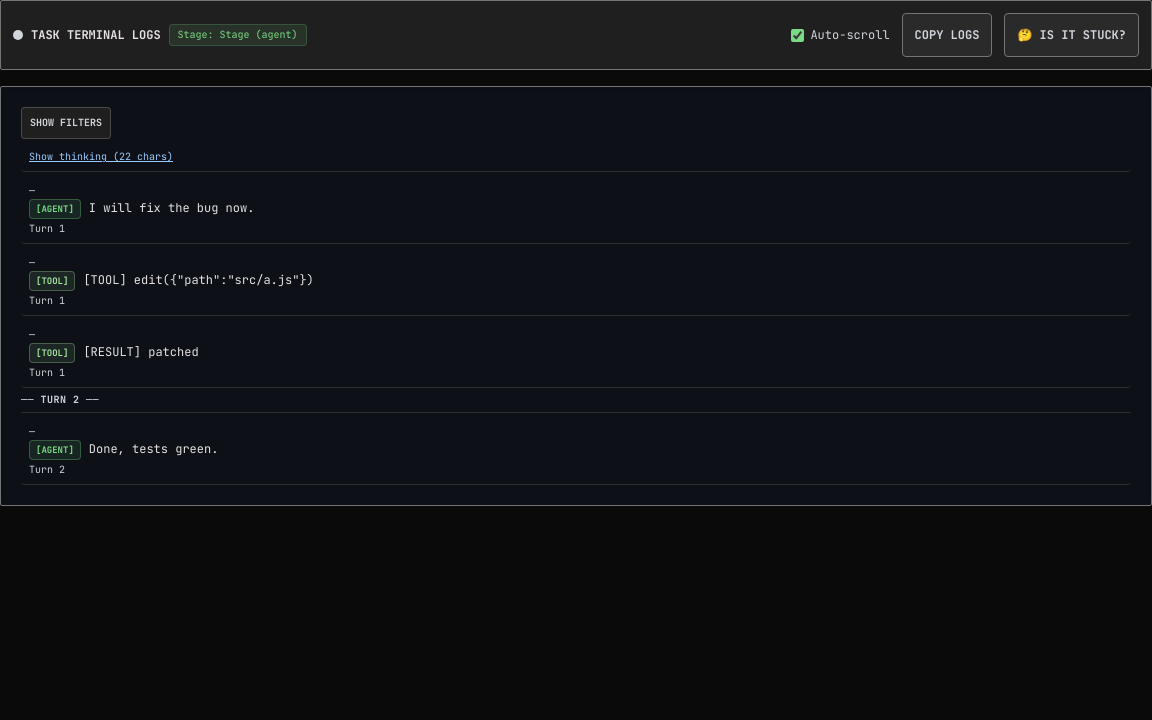
Test: search filters entries by rendered text
(page scrolled)
Click the button with test id "log-filter-toggle". click: point(66, 123)
box: [21,107,111,139]
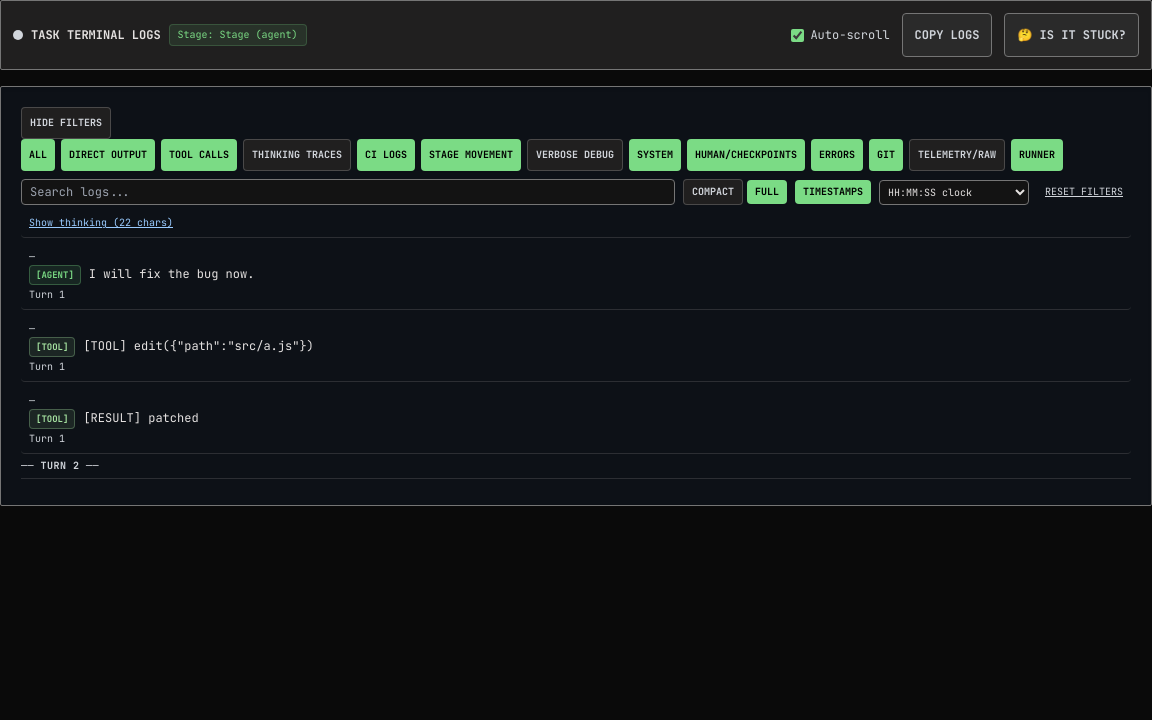
Type "tests green" into the search field labelled "Search logs". click: point(348, 192)
box: [21,179,675,205]
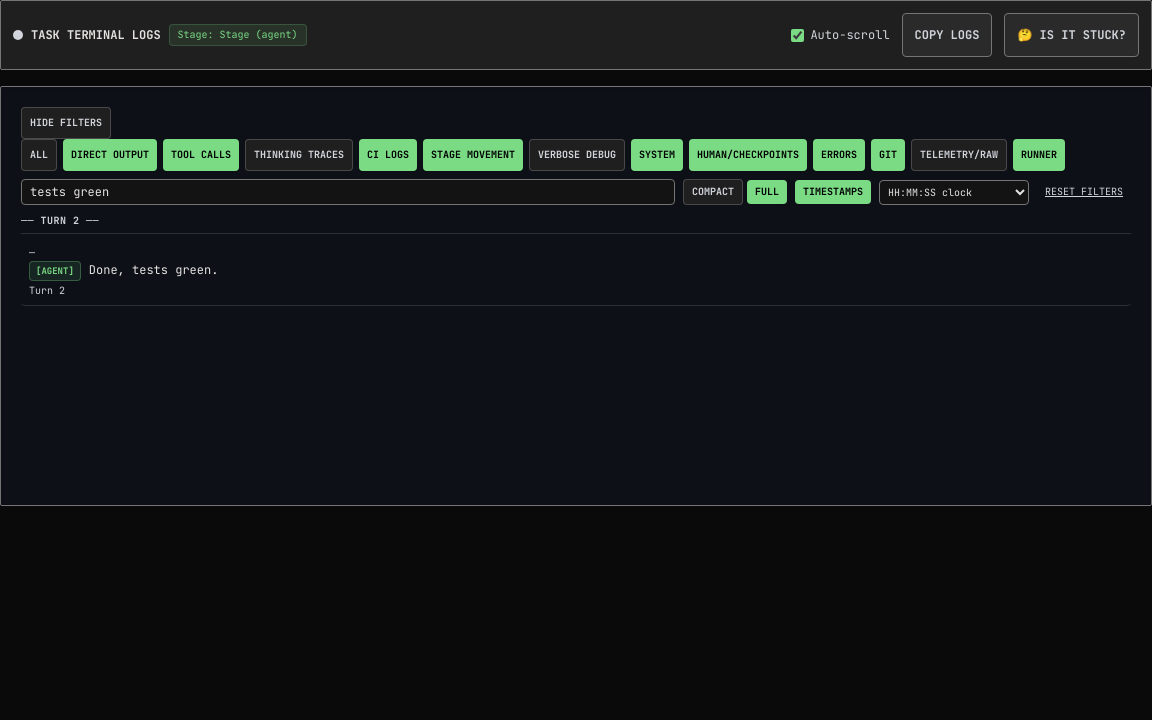
Now the text "Done, tests green." is shown, box [89,262,218,278]
Now the text "I will fix the bug now." is gone
